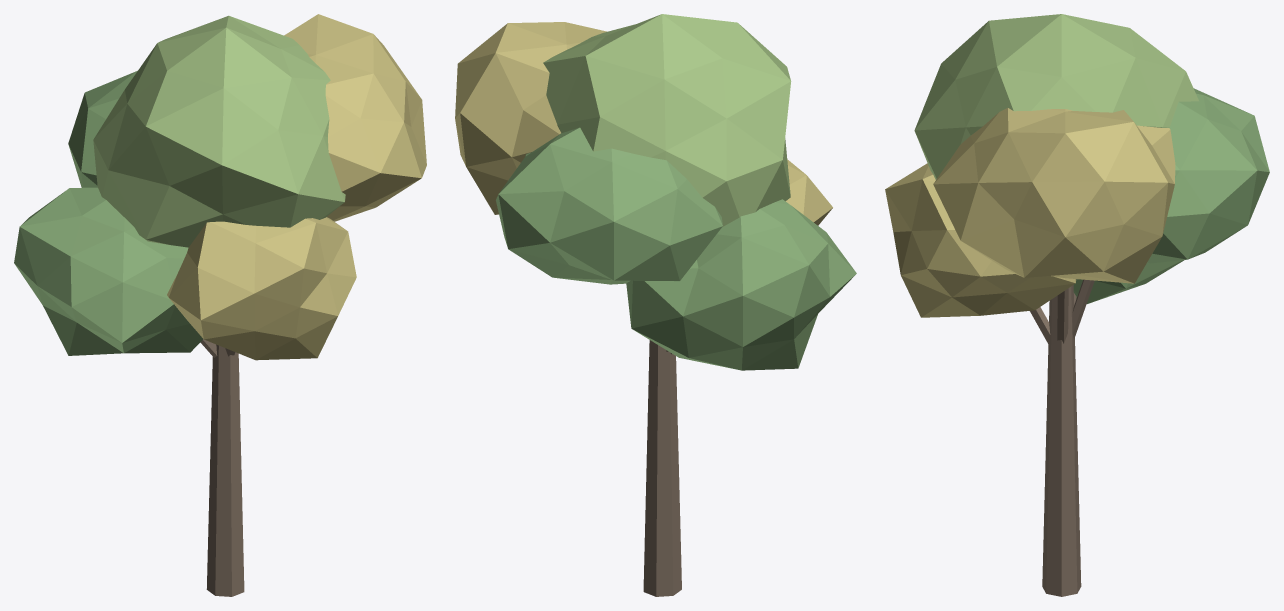
File: node_tree_swamp_2.glb
3 views of the same model, side by side, from view 1: azimuth 30°, elevation 25°; view 2: azimuth 150°, elevation 25°; view 3: azimuth 270°, elevation 25° (orthographic). The views are drawn at different scales.
Visible parts, largest first — view 1: node_tree_swamp_2; view 2: node_tree_swamp_2; view 3: node_tree_swamp_2.
Boxes of the visible parts, left/top/right/bottom form: node_tree_swamp_2: left=14, top=14, right=426, bottom=596; node_tree_swamp_2: left=455, top=14, right=856, bottom=596; node_tree_swamp_2: left=885, top=14, right=1269, bottom=596.
Size of the model in its own units: 4.43 by 6.35 by 3.85.
